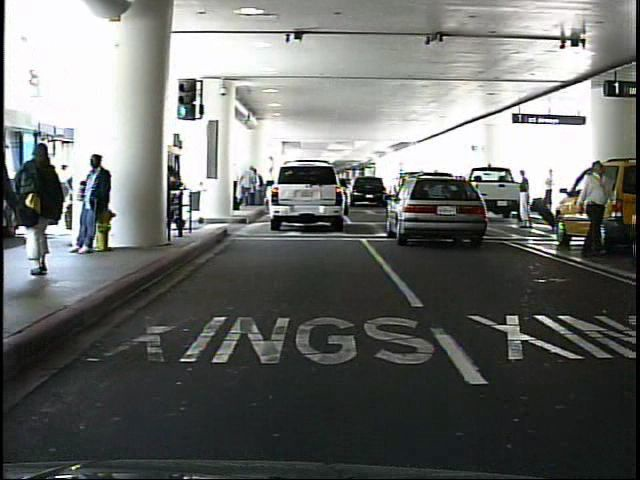person: (17, 140, 67, 275), (79, 149, 117, 255), (580, 157, 615, 260), (515, 169, 534, 231), (547, 168, 557, 212)
